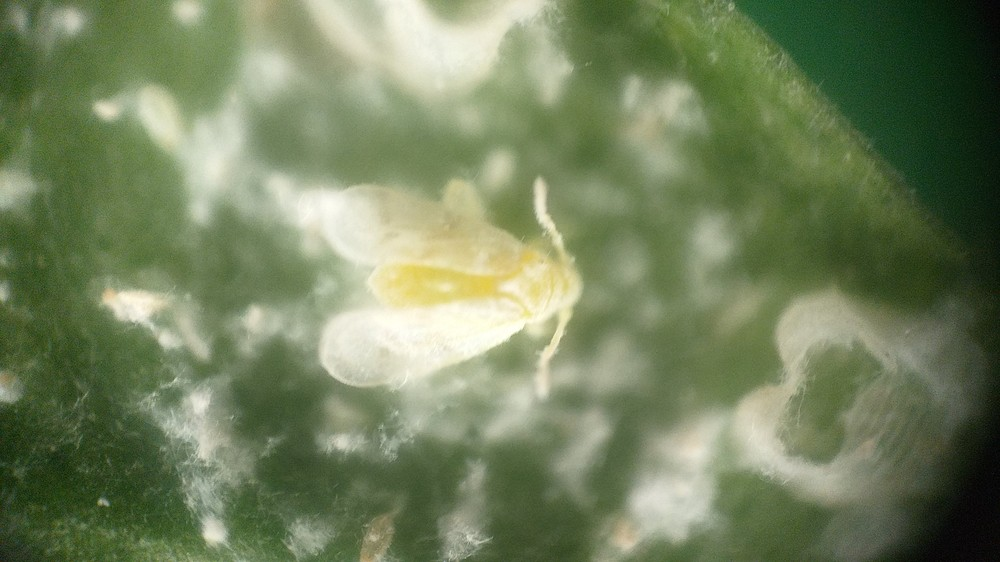Mosca Blanca: (295, 158, 597, 414)
